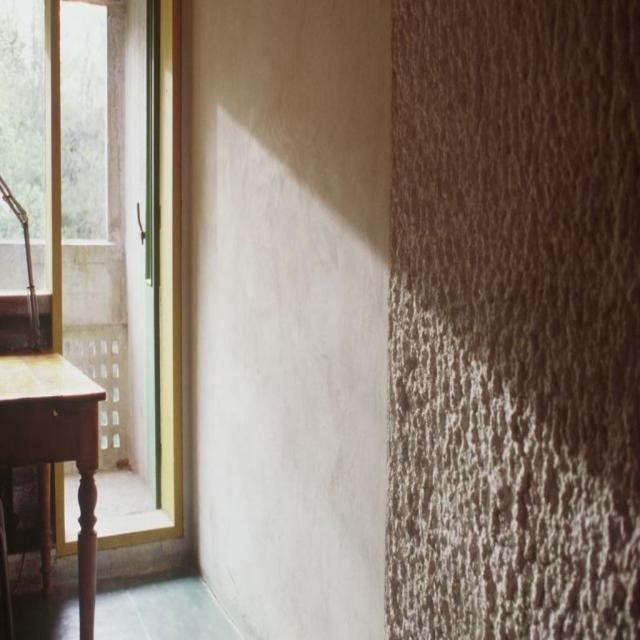desk: (1, 343, 105, 613)
